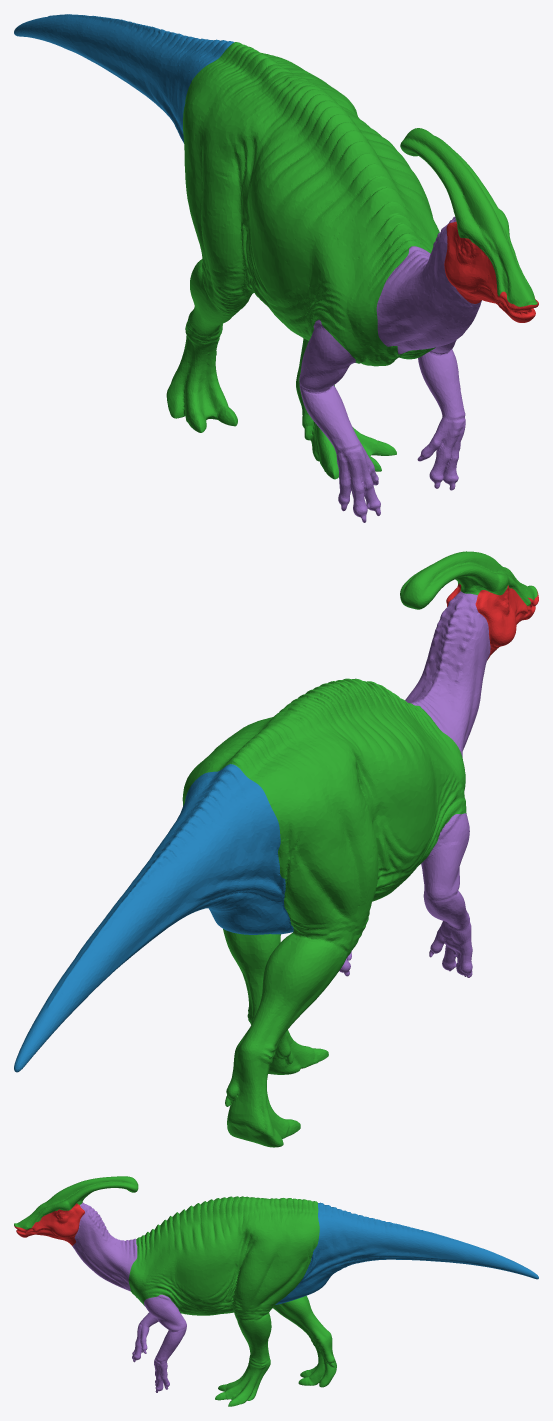
The model's file is SubdividedModelParasaurus.glb.
3 renders of one model, top to bottom at view 1: azimuth 30°, elevation 25°; view 2: azimuth 150°, elevation 25°; view 3: azimuth 270°, elevation 25°, orthographic. The views are drawn at different scales.
Visible parts, largest first — view 1: model_part0, model_part2, model_part6, model_part1, model_part5, model_part3, model_part4; view 2: model_part0, model_part2, model_part6, model_part1, model_part5, model_part4; view 3: model_part0, model_part2, model_part6, model_part5, model_part3, model_part4, model_part1.
Boxes of the visible parts, x1=… form: model_part0: x1=166, y1=42, x2=439, y2=479; model_part2: x1=14, y1=14, x2=234, y2=143; model_part6: x1=376, y1=216, x2=481, y2=354; model_part1: x1=299, y1=319, x2=380, y2=522; model_part5: x1=400, y1=128, x2=537, y2=306; model_part3: x1=417, y1=332, x2=465, y2=490; model_part4: x1=444, y1=221, x2=538, y2=322; model_part0: x1=182, y1=678, x2=466, y2=1147; model_part2: x1=14, y1=764, x2=293, y2=1072; model_part6: x1=405, y1=591, x2=490, y2=757; model_part1: x1=421, y1=813, x2=472, y2=977; model_part5: x1=400, y1=551, x2=537, y2=609; model_part4: x1=446, y1=583, x2=538, y2=660; model_part0: x1=128, y1=1196, x2=336, y2=1406; model_part2: x1=275, y1=1202, x2=538, y2=1304; model_part6: x1=72, y1=1202, x2=137, y2=1291; model_part5: x1=14, y1=1176, x2=138, y2=1229; model_part3: x1=144, y1=1294, x2=186, y2=1392; model_part4: x1=14, y1=1203, x2=84, y2=1245; model_part1: x1=132, y1=1312, x2=158, y2=1362.
Size of the model in its own units: 0.0226 by 0.0534 by 0.12.
